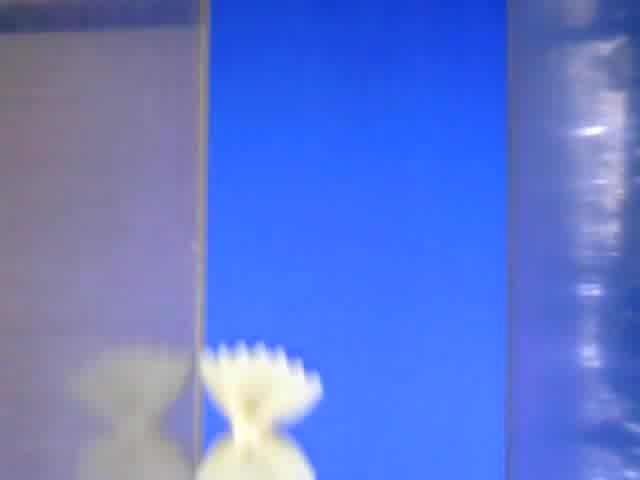farfalle: (200, 344, 320, 480)
